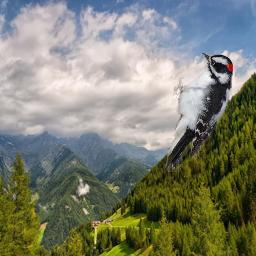Woodpecker: (164, 51, 233, 172)
